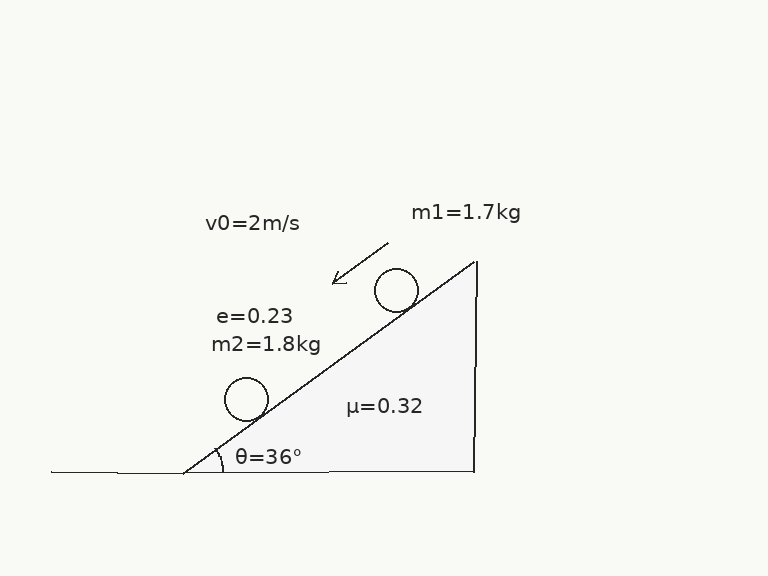ball: (372, 266, 420, 314), (222, 375, 270, 423)
ramp: (181, 258, 476, 474)
